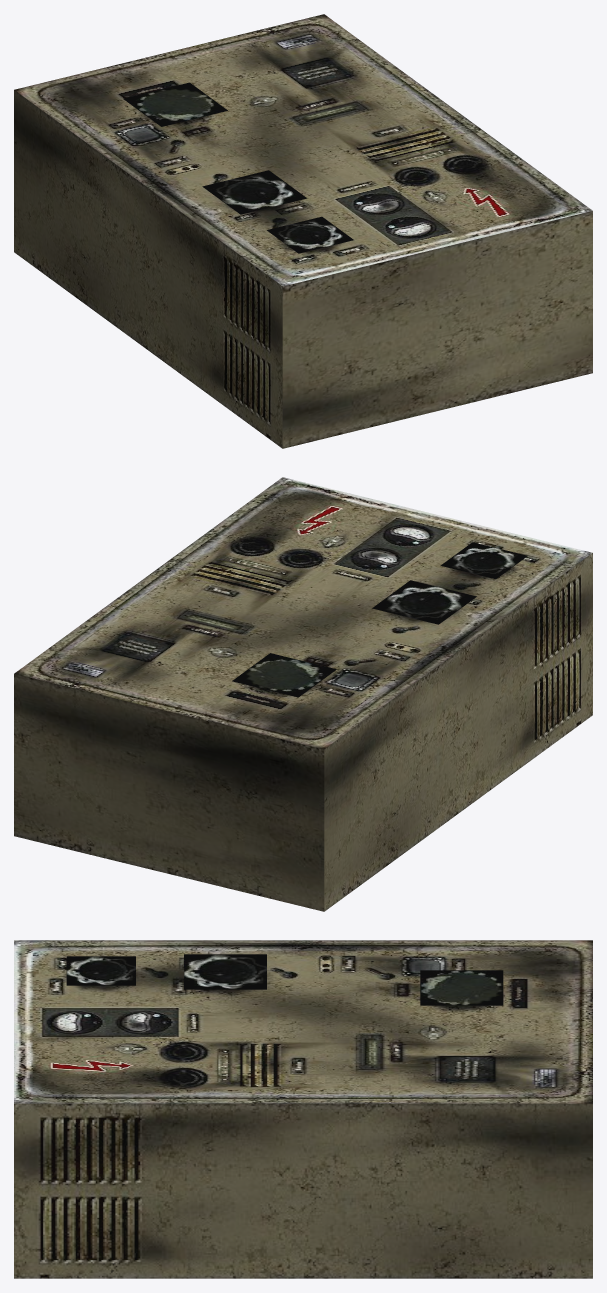
File: military_german_radio1_tan_d.glb
3 renders of one model, top to bottom at view 1: azimuth 30°, elevation 25°; view 2: azimuth 150°, elevation 25°; view 3: azimuth 270°, elevation 25°, orthographic. The views are drawn at different scales.
Bounding box in the file's own units: 24.43 × 12.59 × 36.64.
3 materials, 3 textured.
